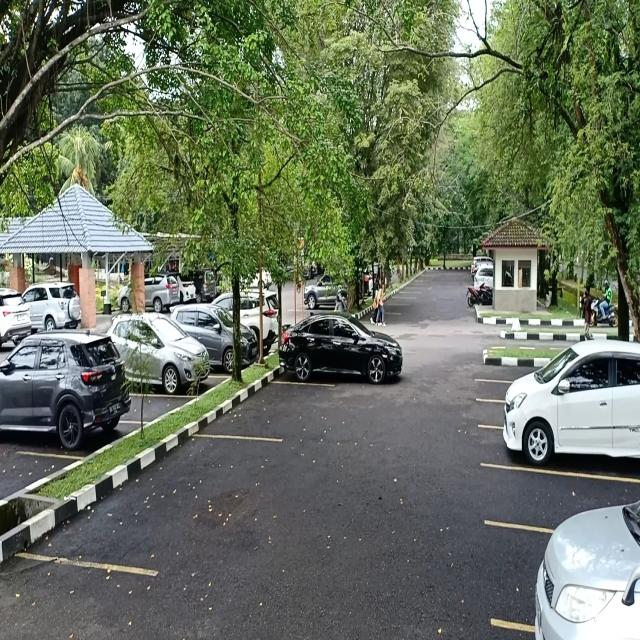empty: (129, 431, 247, 576), (489, 466, 600, 530), (226, 378, 318, 442), (128, 392, 174, 426)
occupied: (495, 387, 640, 475), (0, 364, 128, 460), (274, 335, 406, 387), (127, 340, 215, 397)
